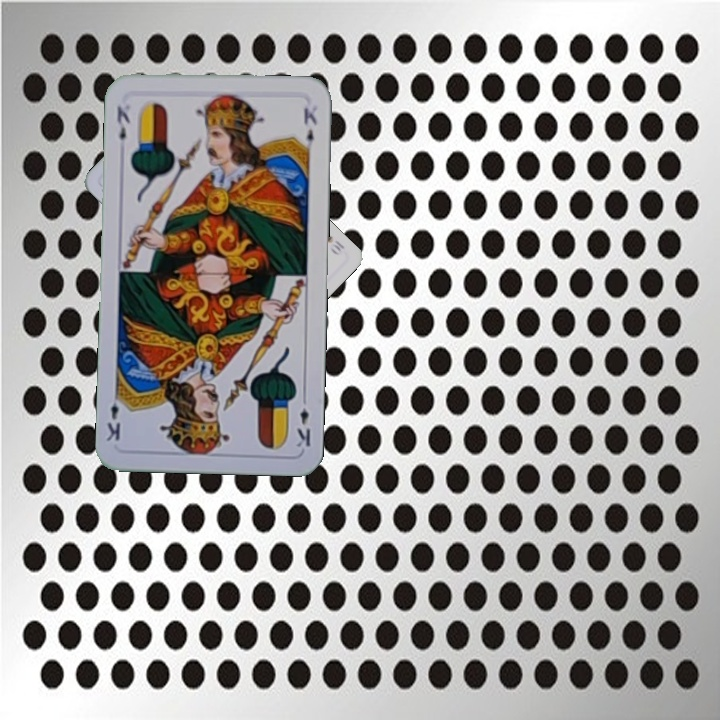EK: (293, 391, 313, 450), (113, 102, 133, 143)
S10: (322, 231, 347, 258)
